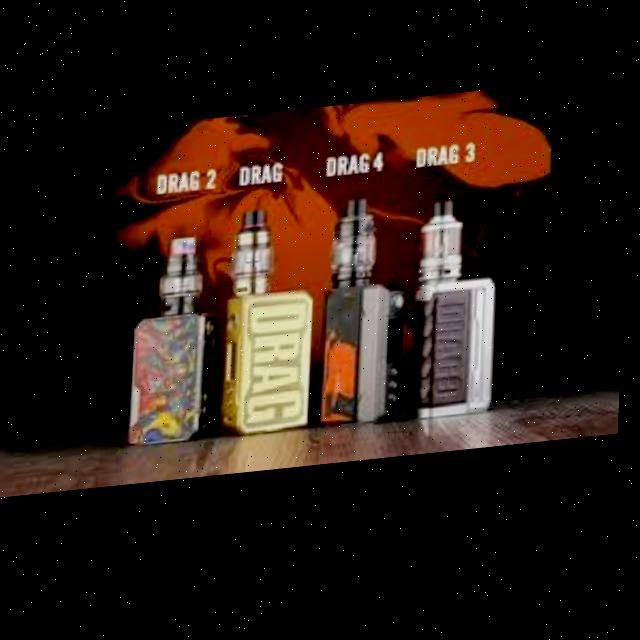vape: (224, 209, 321, 443), (322, 199, 416, 439), (130, 236, 221, 452), (415, 203, 500, 428)
